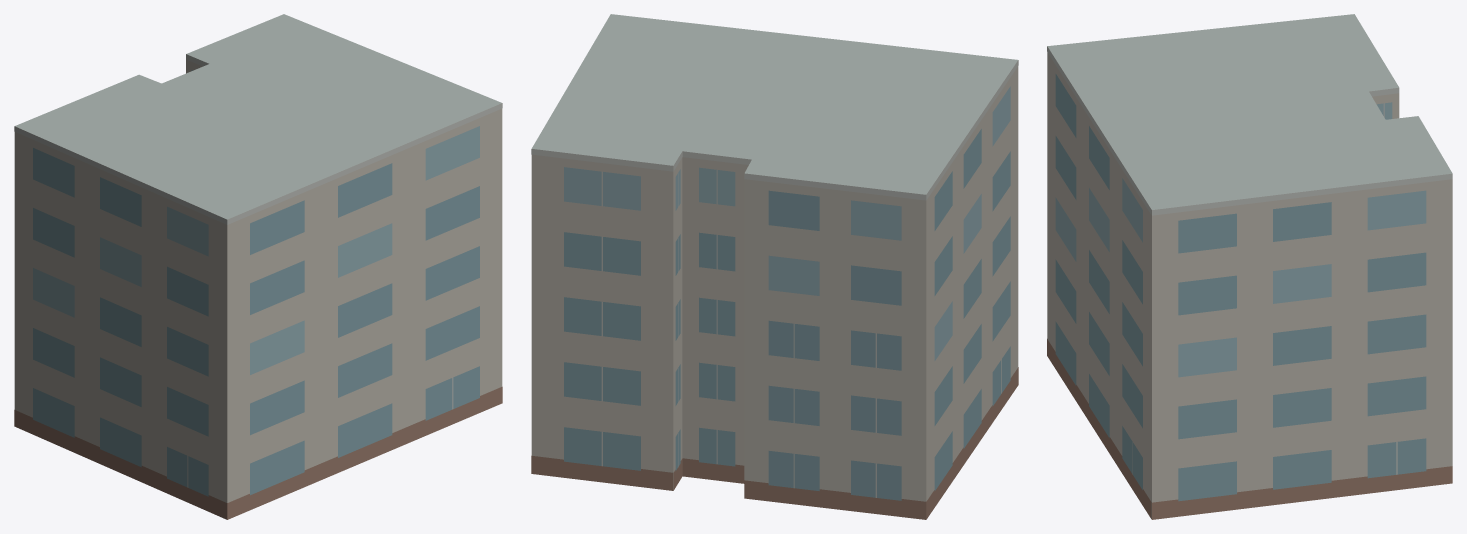
The model's file is survey-upis-32815108.glb.
3 renders of one model, left to right at view 1: azimuth 30°, elevation 25°; view 2: azimuth 150°, elevation 25°; view 3: azimuth 270°, elevation 25°, orthographic. The views are drawn at different scales.
Visible parts, largest first — view 1: survey-upis-32815108.tmp; view 2: survey-upis-32815108.tmp; view 3: survey-upis-32815108.tmp.
Part boxes in pixels (x1,y1,x2,y2): survey-upis-32815108.tmp: (14,14,502,519); survey-upis-32815108.tmp: (531,14,1018,519); survey-upis-32815108.tmp: (1047,14,1452,519).
Bounding box in the file's own units: 18.62 × 13.7 × 16.27.
